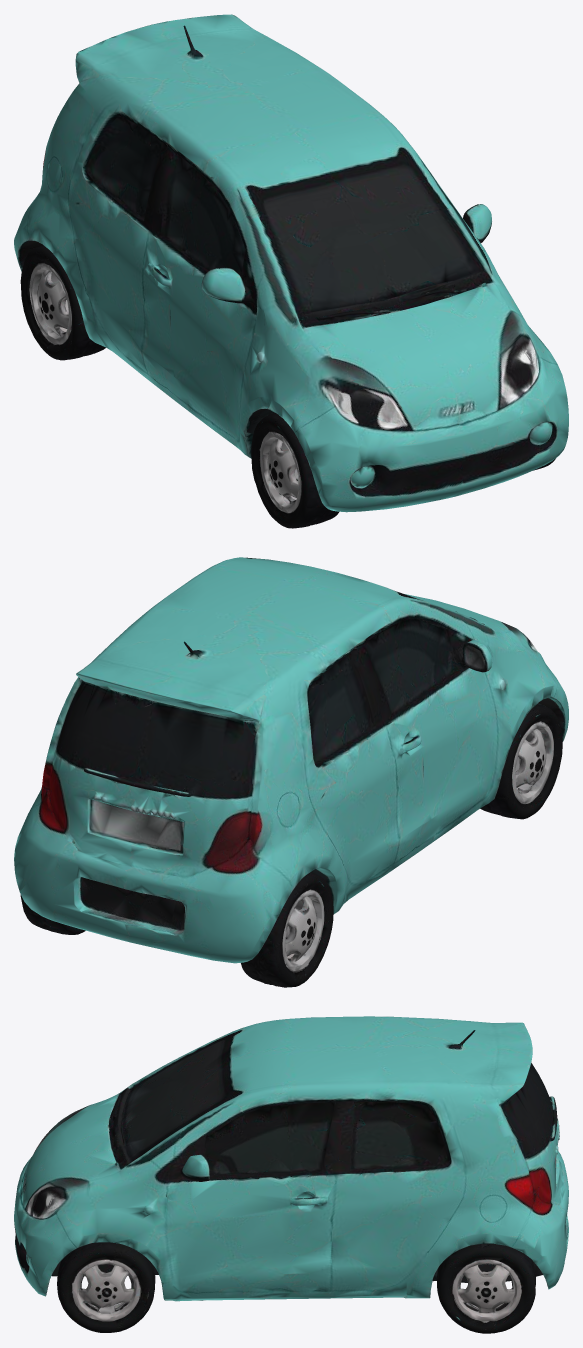
The model's file is courier.glb.
3 renders of one model, top to bottom at view 1: azimuth 30°, elevation 25°; view 2: azimuth 150°, elevation 25°; view 3: azimuth 270°, elevation 25°, orthographic. The views are drawn at different scales.
Bounding box in the file's own units: 0.9377 × 0.9609 × 1.9.
1 material, 1 textured.
